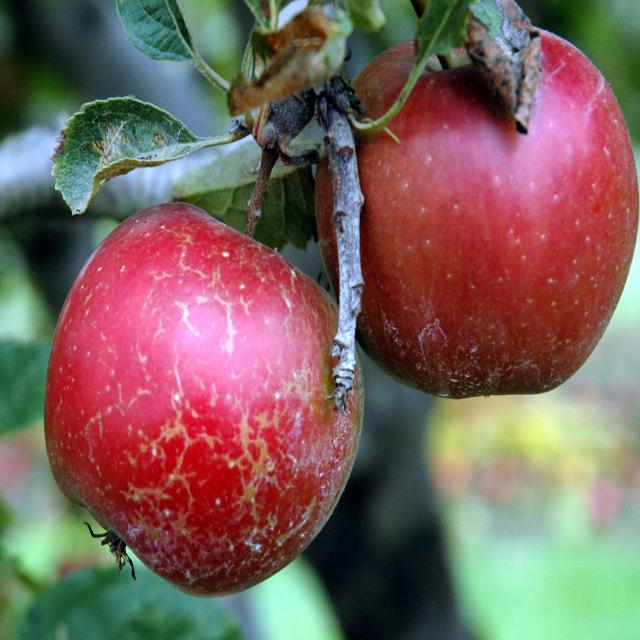Apple: (37, 195, 366, 596), (307, 26, 639, 398)
